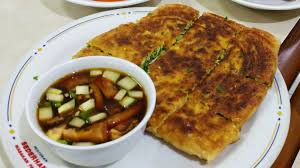Martabak telur: (149, 100, 245, 158), (187, 65, 270, 120), (221, 30, 290, 79), (89, 22, 162, 65), (144, 1, 204, 42), (186, 15, 249, 52)
